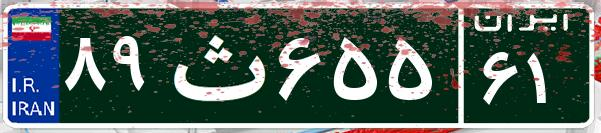1: (525, 38, 570, 115)
5: (385, 28, 445, 110), (330, 28, 385, 110)
6: (273, 28, 330, 110), (475, 38, 525, 113)
8: (57, 26, 110, 107)
9: (110, 28, 158, 105)
ث: (158, 15, 273, 115)
